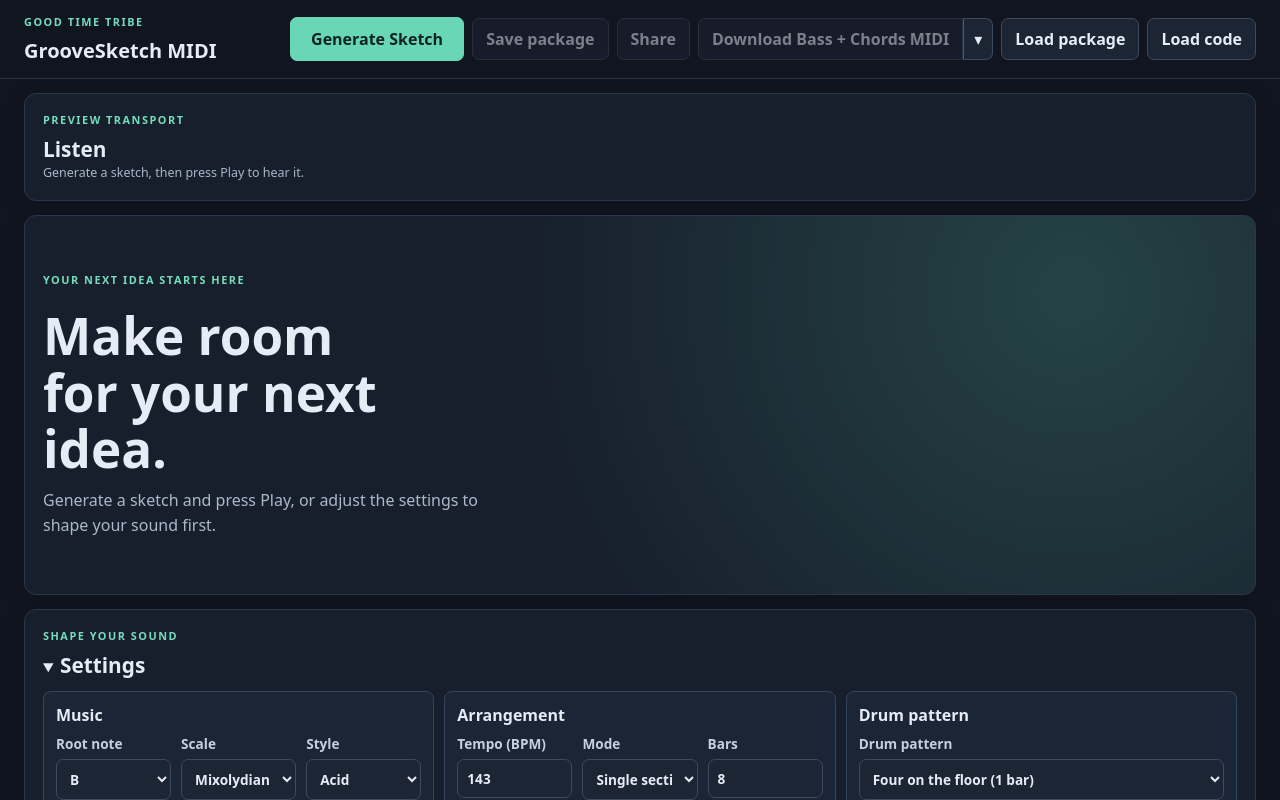
it: requires a pattern if the default is cleared
The width and height of the screenshot is (1280, 800).
Select "None" in the dropdown labelled "Drum pattern": coordinates (1041, 779) [859,759,1224,799]
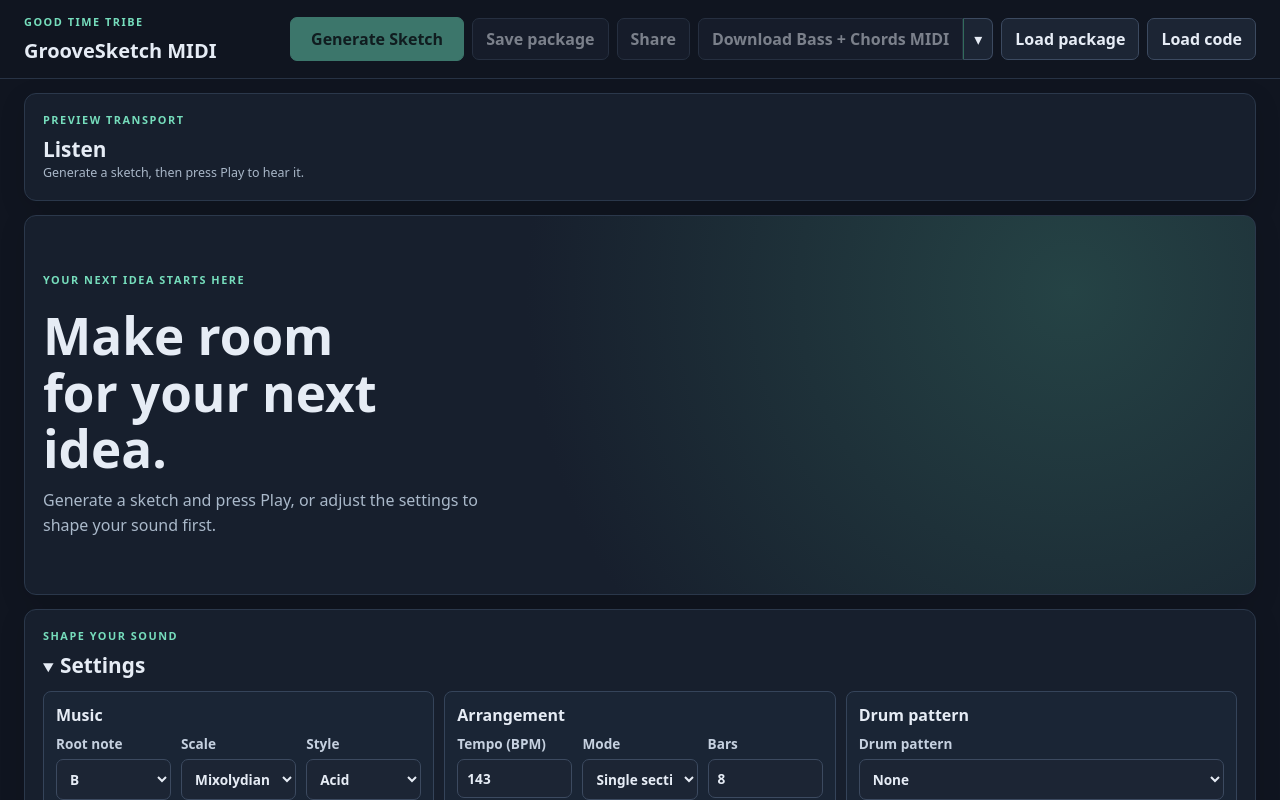
Check: the button "Generate Sketch" is disabled, box [290,17,464,61]
Select "Half time (2 bars)" in the dropdown labelled "Drum pattern": coordinates (1041, 779) [859,759,1224,799]
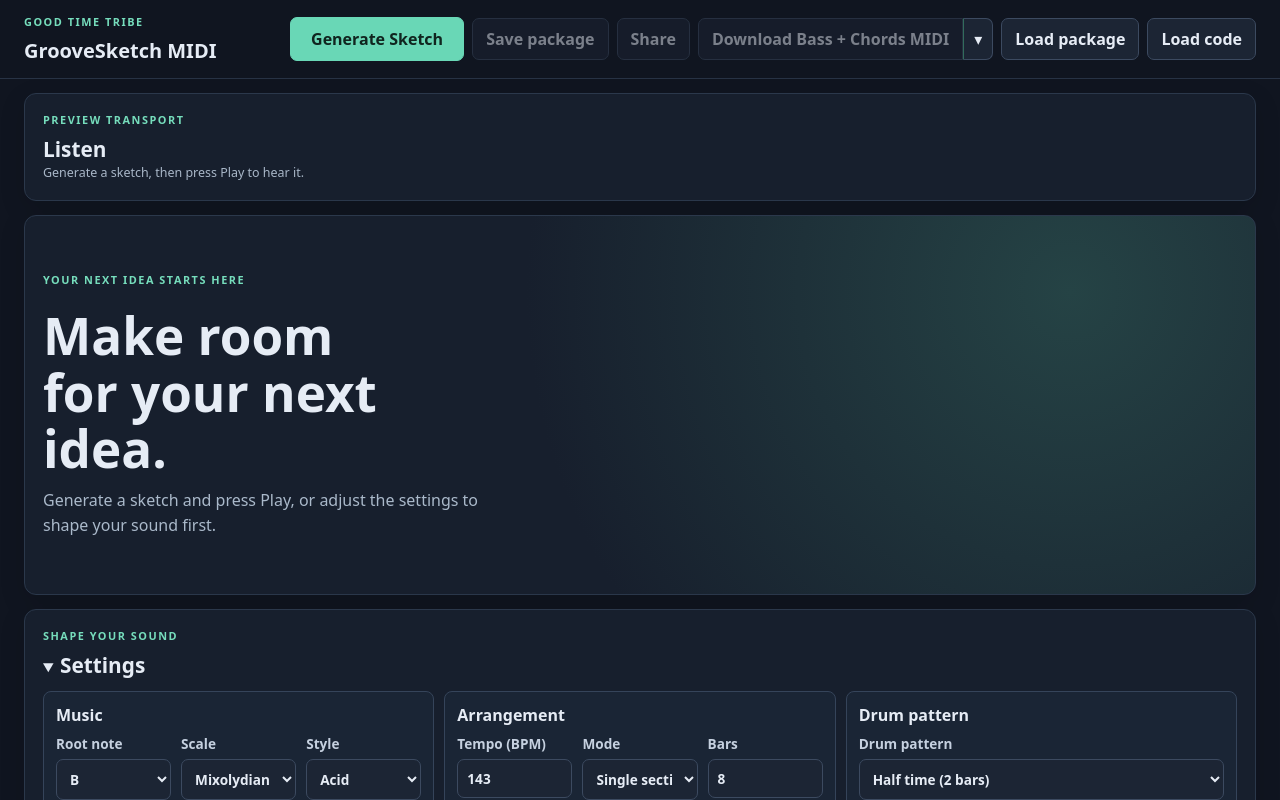
Check: the button "Generate Sketch" is enabled, box [290,17,464,61]
